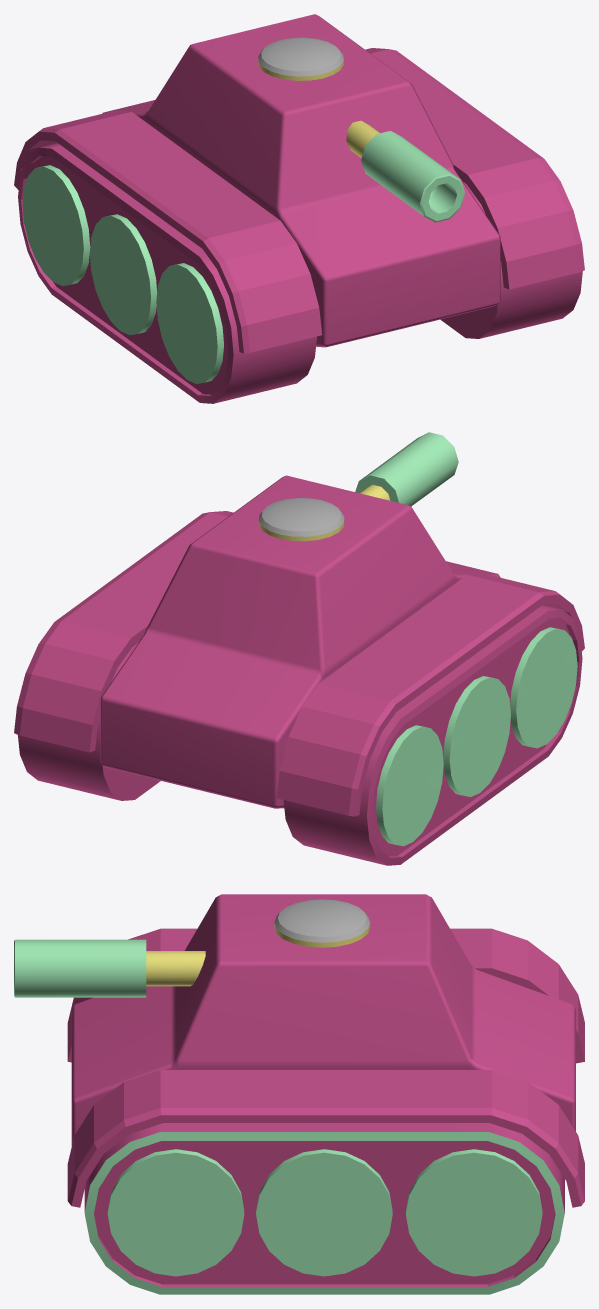
Rendered from Tank.fbx.
The picture shows the model from 3 angles, top to bottom: view 1: azimuth 30°, elevation 25°; view 2: azimuth 150°, elevation 25°; view 3: azimuth 270°, elevation 25°; orthographic projection. The views are drawn at different scales.
Visible parts, largest first — view 1: pCube1, polySurface2 (×2), polySurface1 (×2), pCylinder4, pCylinder6, pCylinder5, pCylinder8, pCylinder9, pCylinder7; view 2: pCube1, polySurface2 (×2), polySurface1 (×2), pCylinder6, pCylinder5, pCylinder4, pCylinder8, pCylinder9; view 3: pCube1, polySurface1, polySurface2 (×2), pCylinder4, pCylinder5, pCylinder6, pCylinder8, pCylinder9, pCylinder7.
Boxes of the visible parts, <box> form: pCube1: <box>102,14,500,347</box>; polySurface2 (×2): <box>14,48,584,353</box>; polySurface1 (×2): <box>18,143,582,403</box>; pCylinder4: <box>156,263,223,383</box>; pCylinder6: <box>22,165,90,285</box>; pCylinder5: <box>89,214,157,335</box>; pCylinder8: <box>361,131,465,222</box>; pCylinder9: <box>258,37,343,80</box>; pCylinder7: <box>346,120,379,157</box>; pCube1: <box>100,475,500,808</box>; polySurface2 (×2): <box>14,511,584,816</box>; polySurface1 (×2): <box>18,605,582,865</box>; pCylinder6: <box>376,725,443,846</box>; pCylinder5: <box>443,676,510,796</box>; pCylinder4: <box>510,627,577,748</box>; pCylinder8: <box>355,432,458,506</box>; pCylinder9: <box>258,498,344,541</box>; pCube1: <box>71,894,575,1146</box>; polySurface1: <box>84,1123,564,1294</box>; polySurface2 (×2): <box>67,928,584,1207</box>; pCylinder4: <box>107,1149,244,1276</box>; pCylinder5: <box>256,1149,392,1276</box>; pCylinder6: <box>406,1149,542,1276</box>; pCylinder8: <box>14,939,146,997</box>; pCylinder9: <box>274,899,370,947</box>; pCylinder7: <box>146,951,205,986</box>.
Bounding box in the file's own units: 9.37 × 6.37 × 11.54.
